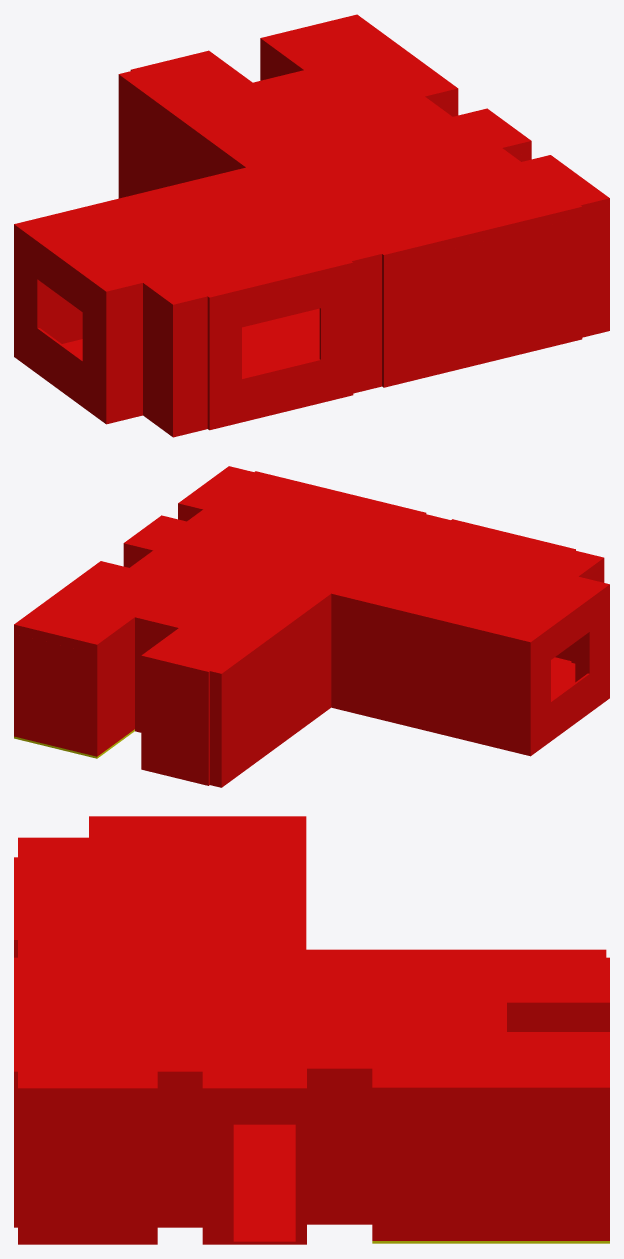
Rendered from target_house_05_grp.fbx.
3 renders of one model, top to bottom at view 1: azimuth 30°, elevation 25°; view 2: azimuth 150°, elevation 25°; view 3: azimuth 270°, elevation 25°, orthographic. The views are drawn at different scales.
Parts seen in each view (by area): view 1: target_house_05_ceiling, target_house_05_walls, target_house_05_floor; view 2: target_house_05_walls, target_house_05_ceiling, target_house_05_floor; view 3: target_house_05_ceiling, target_house_05_walls, target_house_05_floor.
Part boxes in pixels (x1=…): target_house_05_ceiling: x1=14, y1=14, x2=609, y2=315; target_house_05_walls: x1=14, y1=49, x2=609, y2=434; target_house_05_floor: x1=14, y1=308, x2=609, y2=437; target_house_05_walls: x1=14, y1=513, x2=609, y2=785; target_house_05_ceiling: x1=14, y1=466, x2=609, y2=675; target_house_05_floor: x1=14, y1=657, x2=609, y2=787; target_house_05_ceiling: x1=14, y1=816, x2=609, y2=1101; target_house_05_walls: x1=14, y1=953, x2=609, y2=1241; target_house_05_floor: x1=14, y1=1124, x2=609, y2=1244.
Size of the model in its own units: 1033 by 277 by 957.
